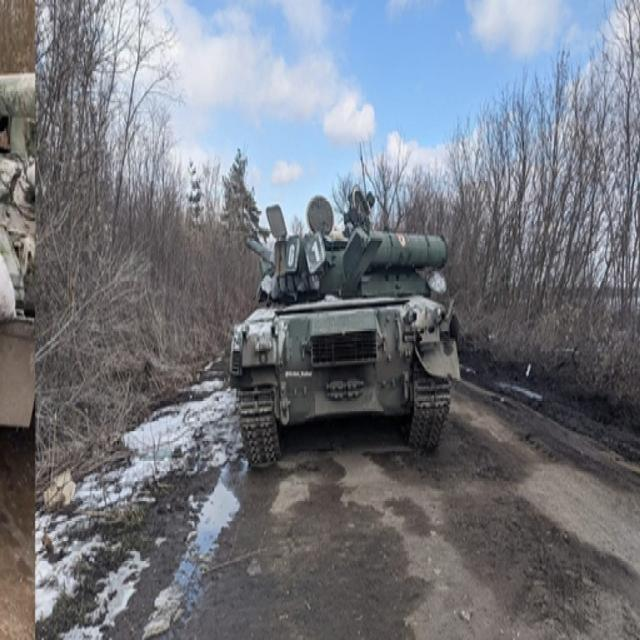TANK: (220, 182, 461, 476)
